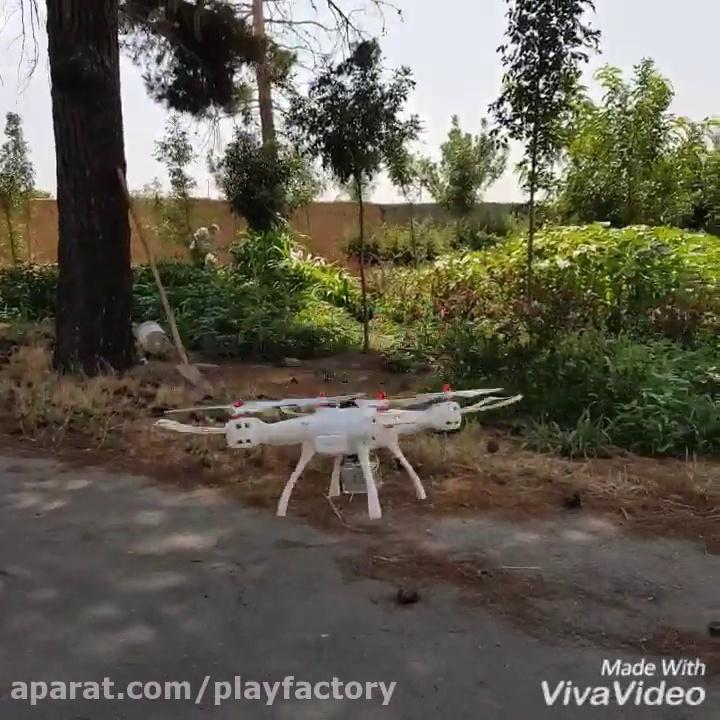drone: (150, 383, 523, 520)
